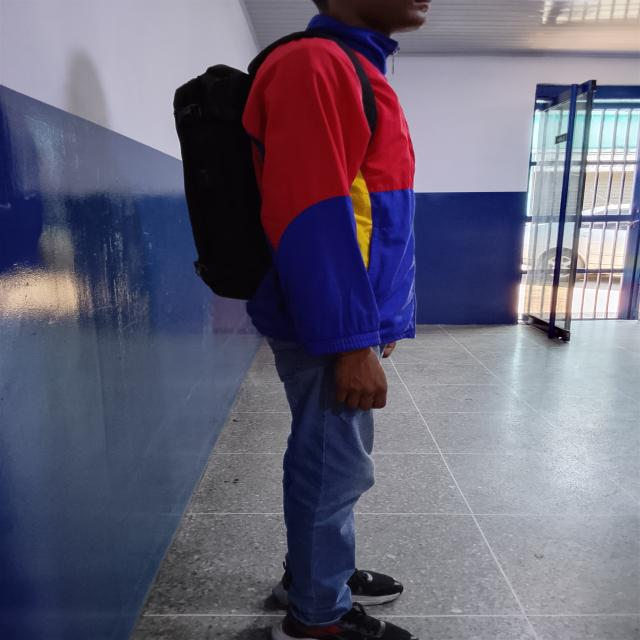chaqueta_unefa: (240, 13, 418, 357)
